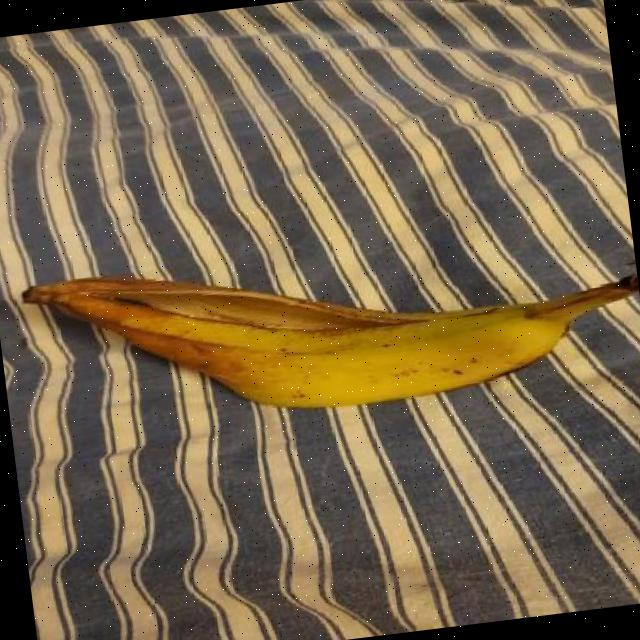banana-peel: (17, 205, 640, 445)
